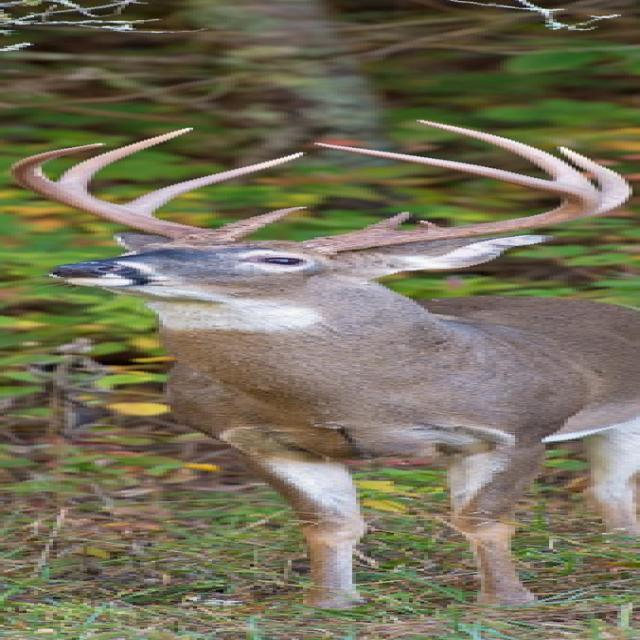E1: (416, 220, 441, 230)
L-F: (295, 142, 600, 256)
L-G1: (355, 211, 413, 232)
L-G2: (554, 146, 634, 215)
L-G3: (414, 119, 599, 193)
R-F: (8, 143, 248, 247)
R-G1: (214, 206, 310, 239)
R-G2: (121, 152, 308, 215)
R-G3: (57, 127, 194, 193)
